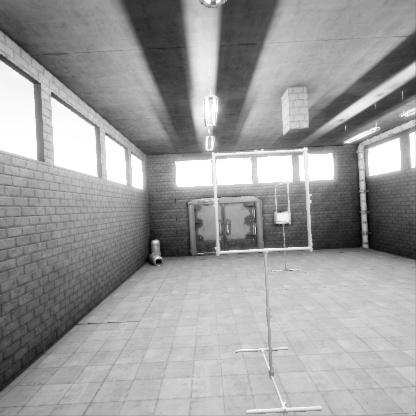gate: (215, 167, 315, 268), (274, 194, 290, 236)
